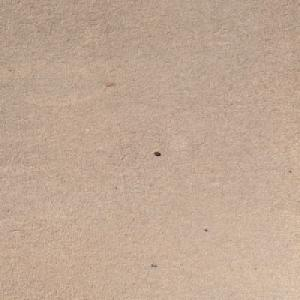Nut: (153, 151, 159, 155)
